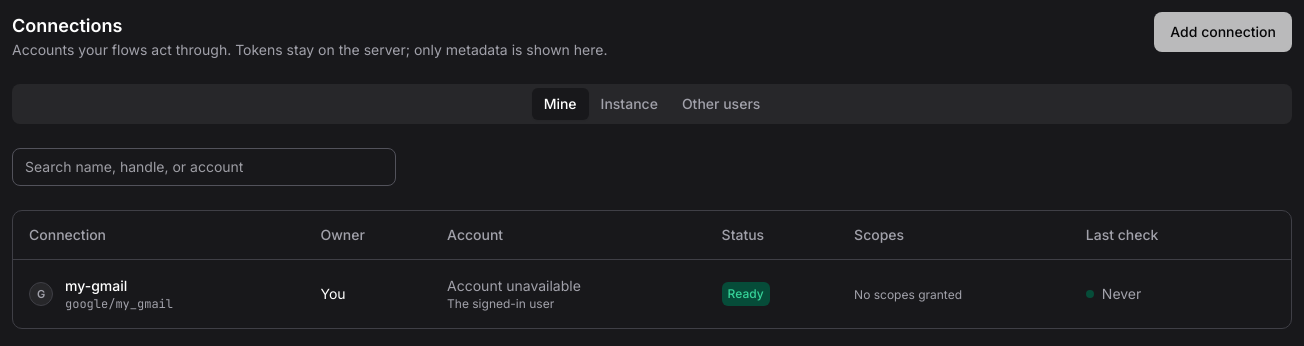
Test: ConnectionsPage tabs › distinguishes search misses from an empty tab and restores rows when cleared
In the field with test id "connections-search": (204, 167) [12,148,396,186], type "unmatched"
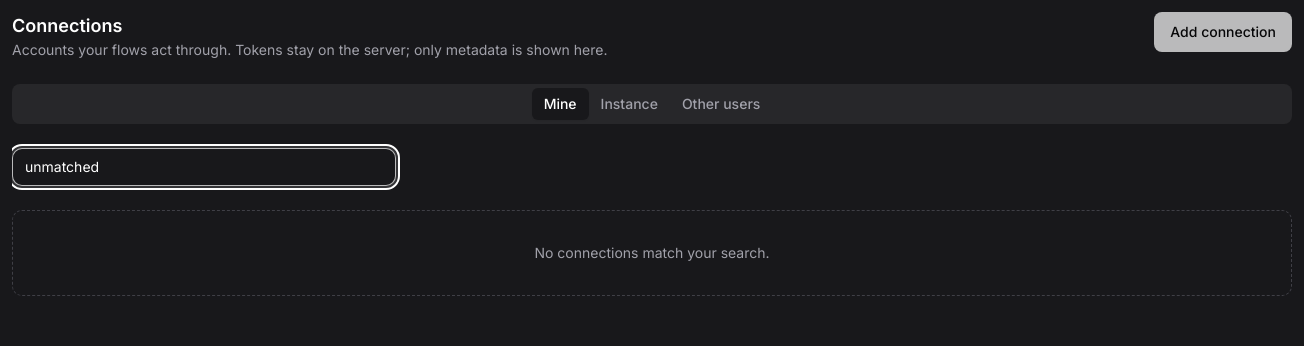
Expected: the text with test id "connections-empty" reads "No connections match your search.", [534,244,770,261]
Click the tab "Instance": (629, 104) [589,88,670,120]
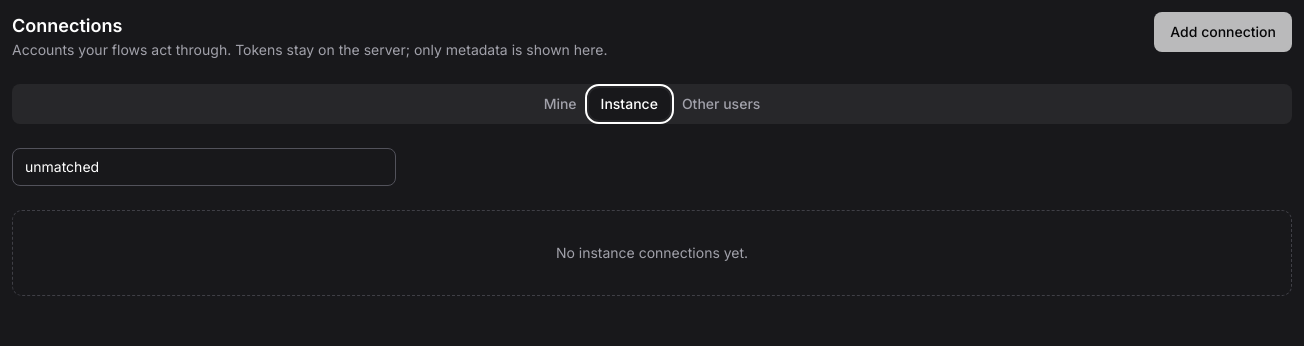
Expected: the text with test id "connections-empty" reads "No instance connections yet.", [556,244,748,261]
Click the tab "Mine": (560, 104) [532,88,589,120]
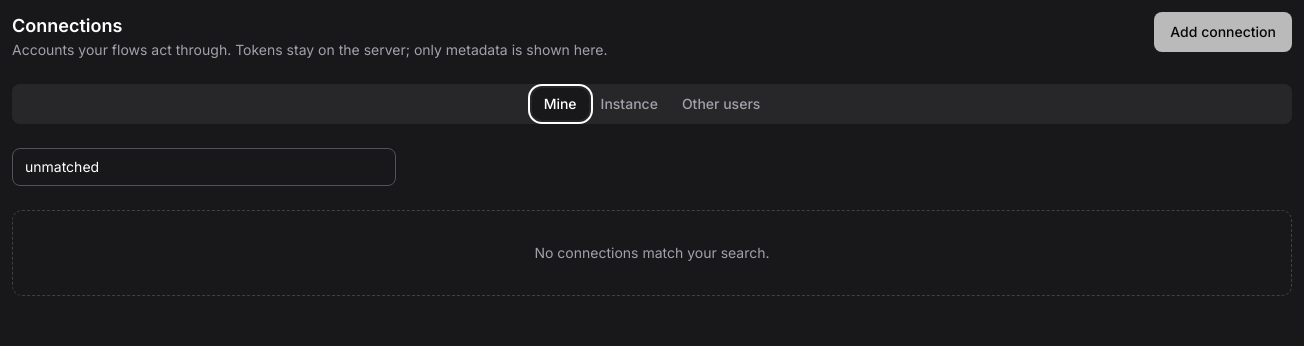
Clear the field with test id "connections-search": (204, 167) [12,148,396,186]
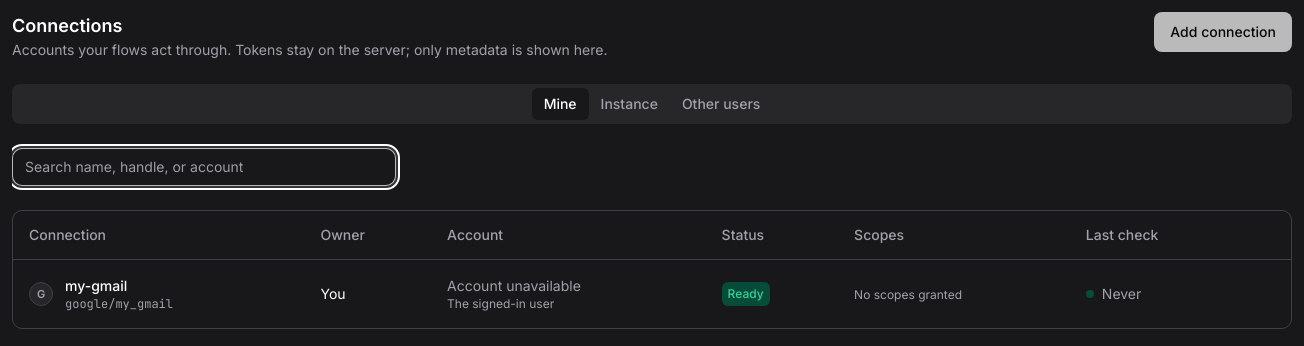
Expected: the text "my-gmail" is shown, [65,276,127,294]
Expected: the text with test id "connections-empty" is gone
